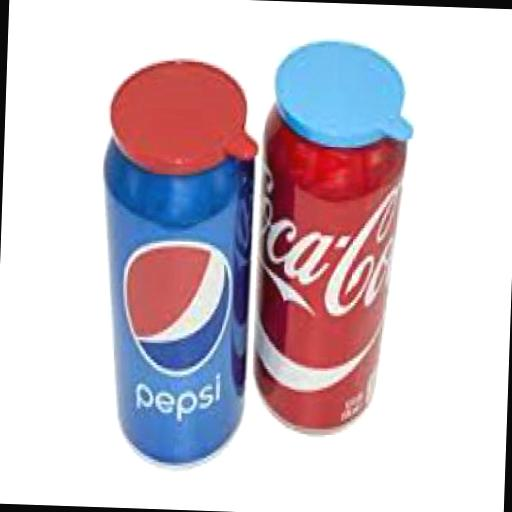metal: (94, 130, 255, 467), (250, 86, 405, 434)
